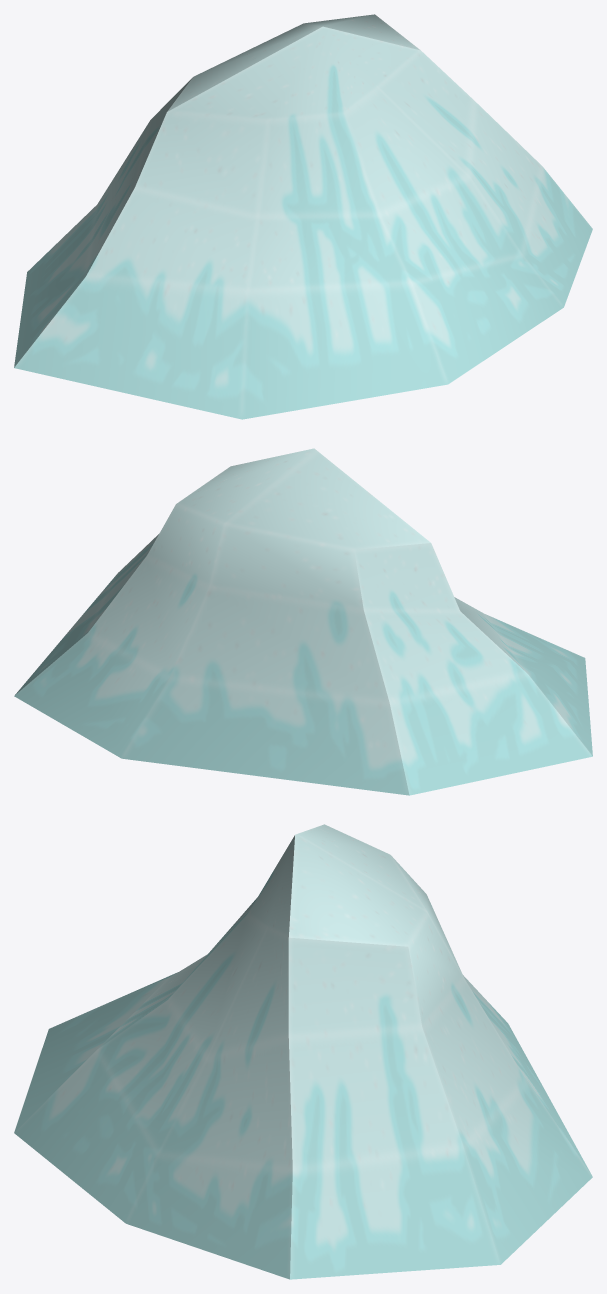
File: env_Ice_Hill_C.FBX
3 renders of one model, top to bottom at view 1: azimuth 30°, elevation 25°; view 2: azimuth 150°, elevation 25°; view 3: azimuth 270°, elevation 25°, orthographic. The views are drawn at different scales.
Parts seen in each view (by area): view 1: env_Ice_Hill_C; view 2: env_Ice_Hill_C; view 3: env_Ice_Hill_C.
Boxes of the visible parts, box(x1,y1,x2,y2) form: env_Ice_Hill_C: box(14, 14, 592, 419); env_Ice_Hill_C: box(14, 448, 592, 795); env_Ice_Hill_C: box(14, 824, 592, 1279).
Size of the model in its own units: 1665 by 735 by 1292.
